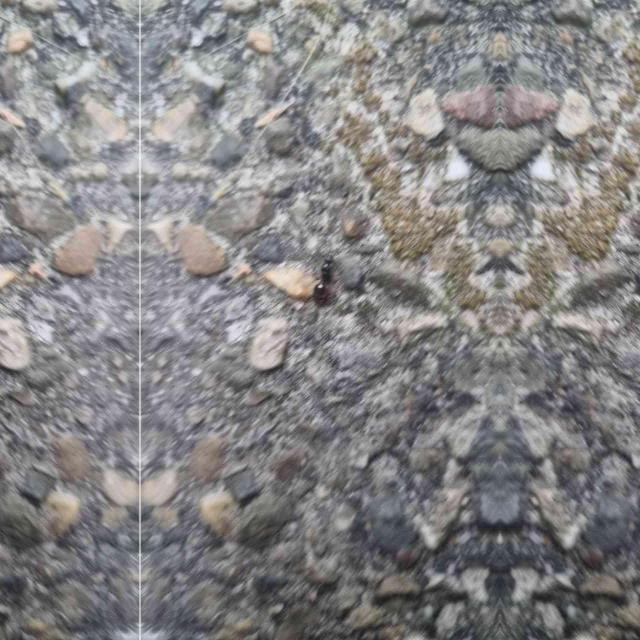Tetramorium: (306, 248, 342, 312)
